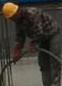gloves: (12, 44, 22, 60), (0, 77, 8, 86)
hard-hat: (0, 15, 15, 44)
